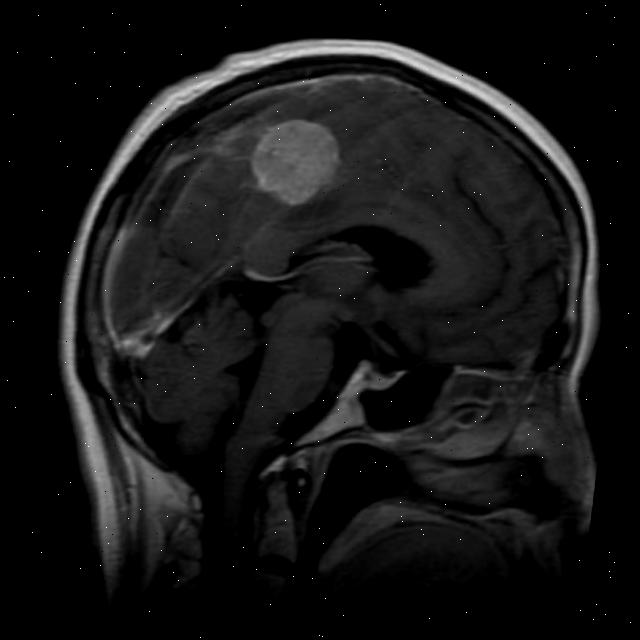Meningioma: (244, 113, 348, 212)
Pituitary: (349, 355, 411, 396)
